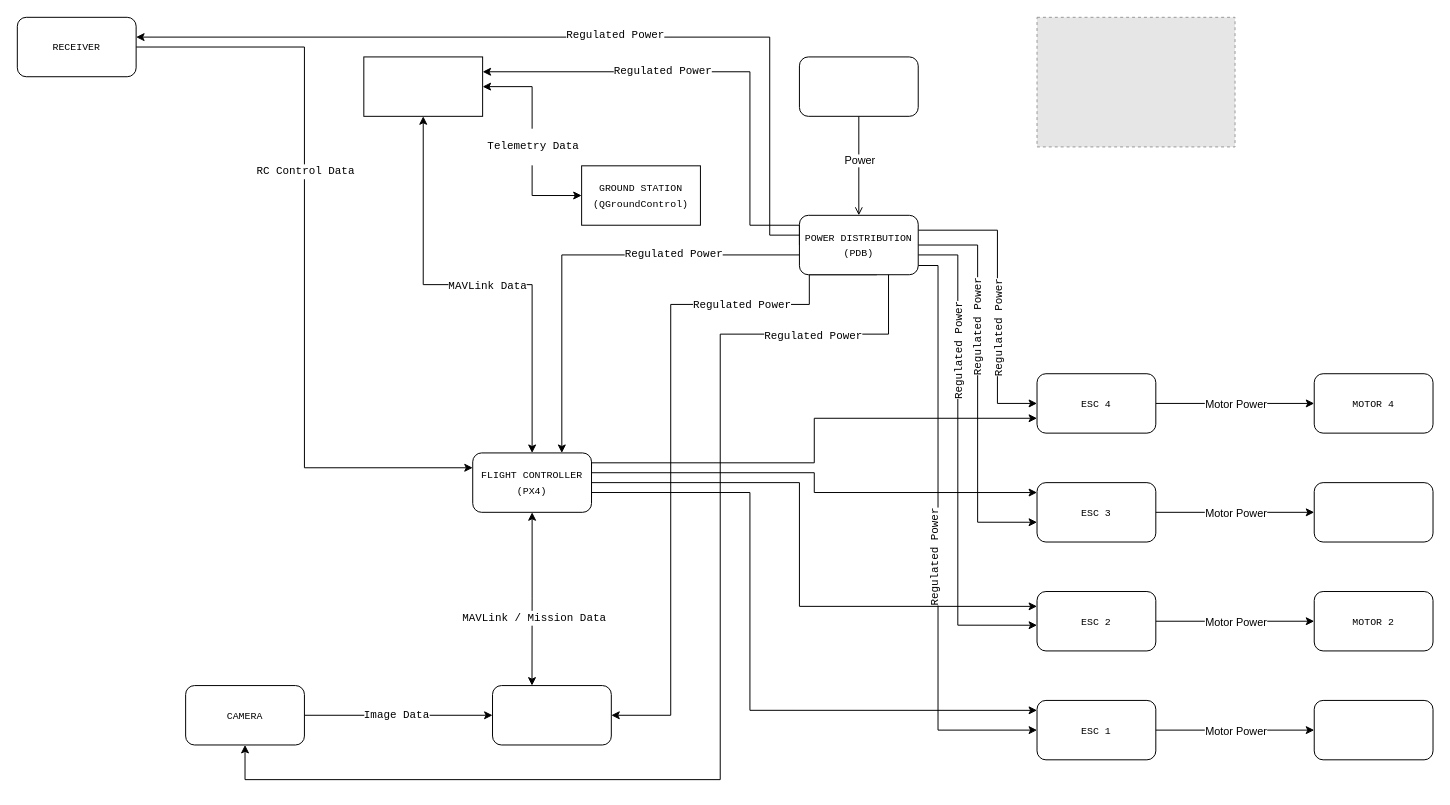
The diagram is 1450 pixels wide and 805 high, and some of its shapes have lost their labels. Grey dashed boxes stand in for pictures. The shapes that lost their labels are listed below. From the top down, each one's centre as x and y in pixels, then its label:
the point at 423,86: TELEMETRY MODULE
the point at 858,86: BATTERY
the point at 1373,512: MOTOR 3
the point at 551,715: COMPANION COMPUTER (JETSON)
the point at 1373,729: MOTOR 1
